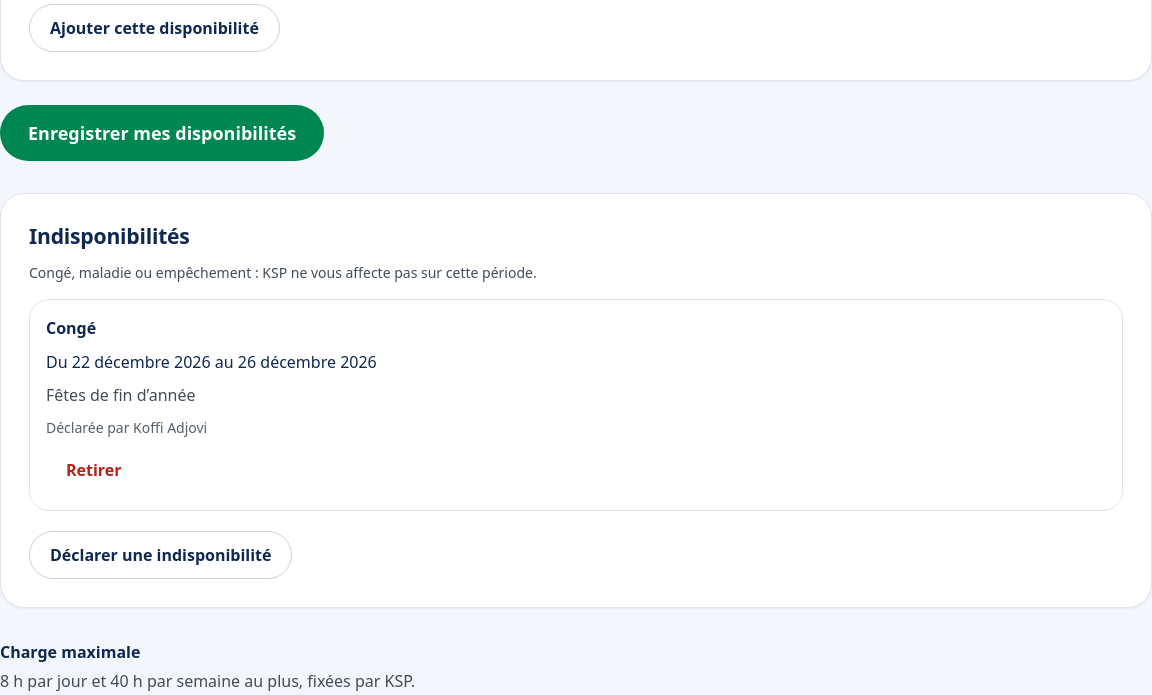
Test case: indisponibilités › période qui chevauche des affectations (409) : seul le superviseur peut l’enregistrer
(page scrolled)
Click the button "Déclarer une indisponibilité".
click(161, 555)  # box [29,531,292,579]
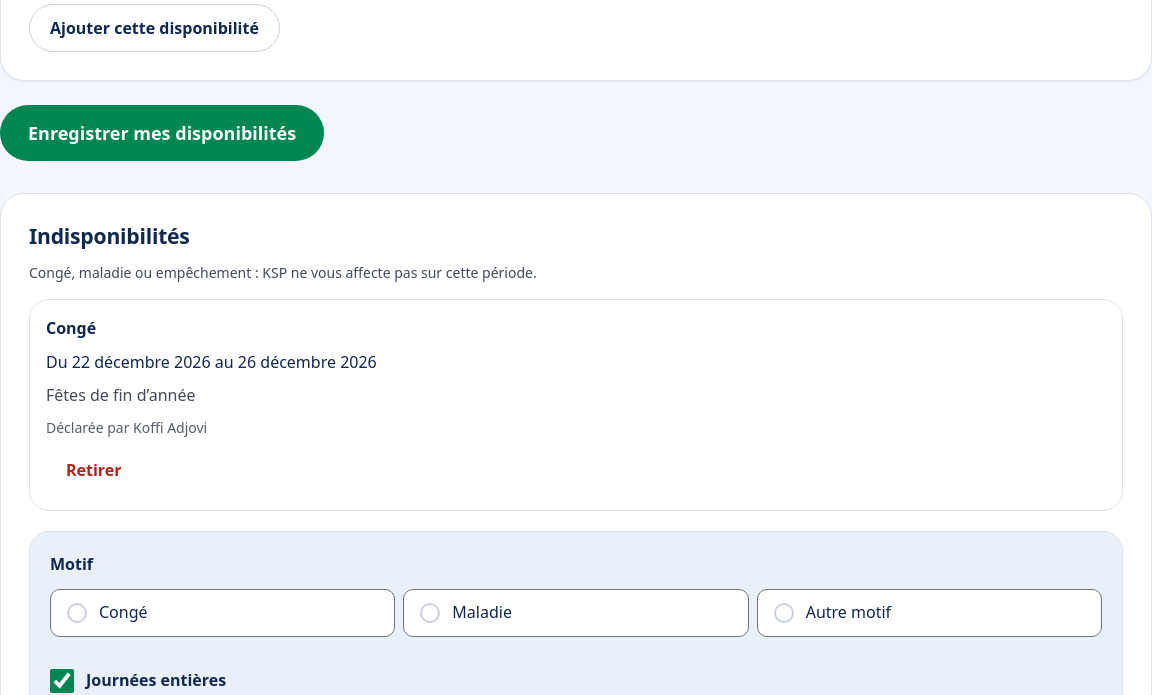
Click the radio button labelled "Congé".
click(123, 612)  # box [50,589,395,637]
(page scrolled)
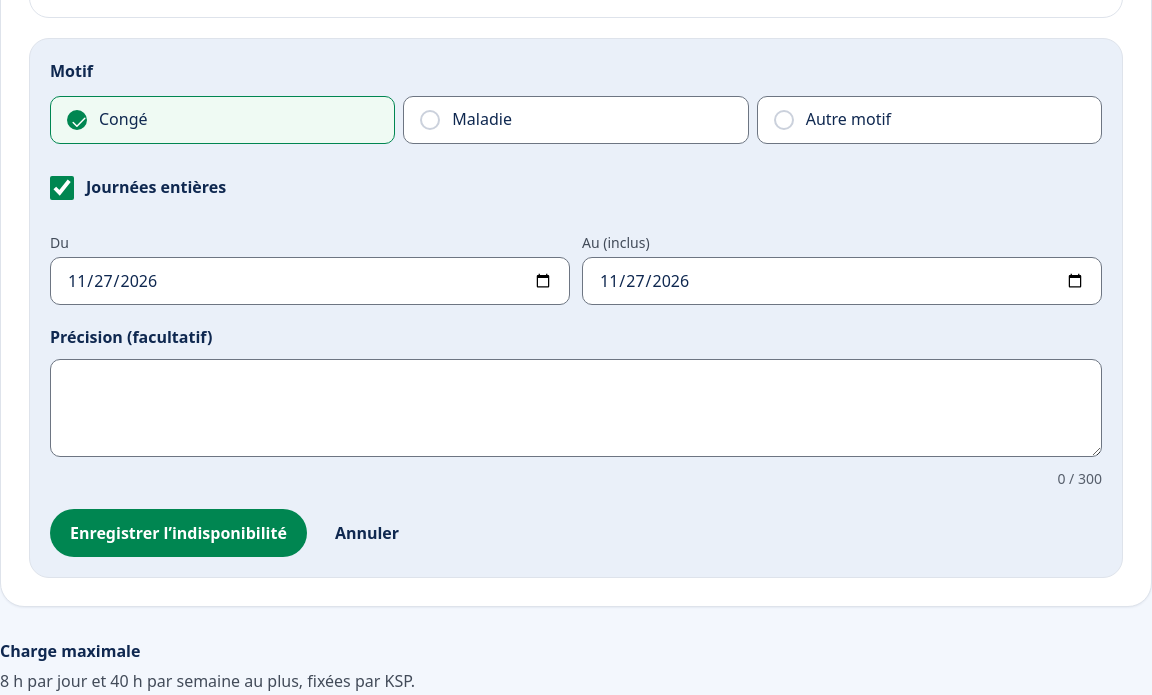
Click the button "Enregistrer l’indisponibilité".
click(178, 534)  # box [50,510,307,558]
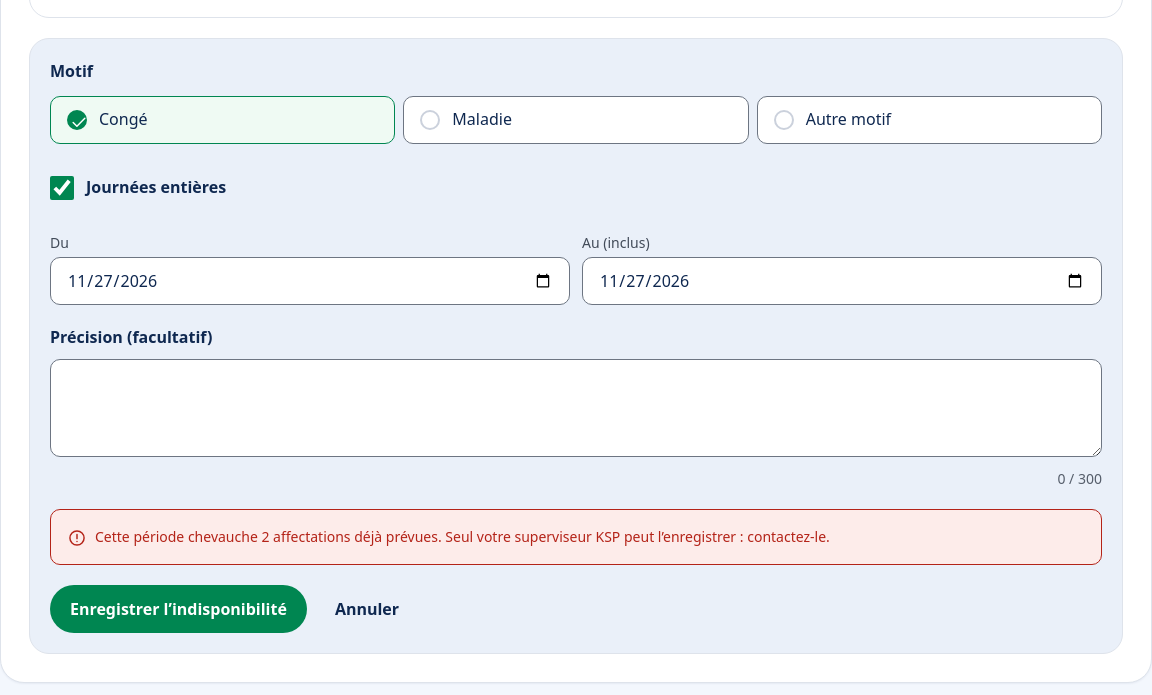
Now the text "Cette période chevauche 2 affectations déjà prévues. Seul votre superviseur KSP peut l’enregistrer : contactez-le." is shown, box [95,528,830,546]
